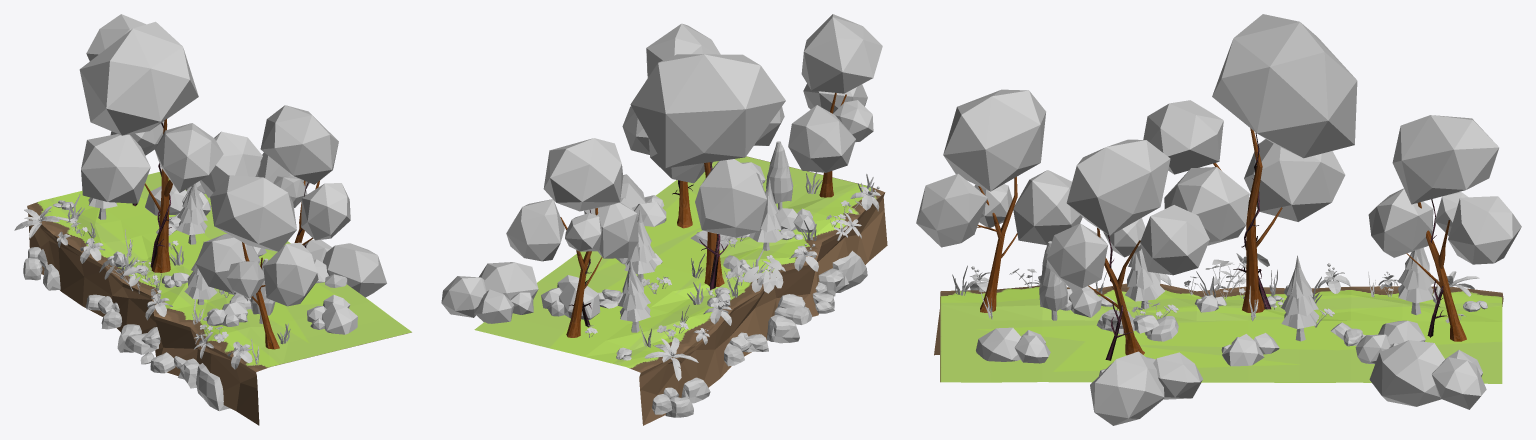
The model's file is LeftSide.FBX.
3 views of the same model, side by side, from view 1: azimuth 30°, elevation 25°; view 2: azimuth 150°, elevation 25°; view 3: azimuth 270°, elevation 25° (orthographic). The views are drawn at different scales.
Parts seen in each view (by area): view 1: G_01_01, Tree_Leave_01_02, Tree_Leave_01_03, Tree_Leave_01_04, G_Tree_Leave_01_09, Rock_01_22, Tree_Leave_01_05, G_Tree_Leave_01_07, Trees_01_01, Tree_S_06_03, G_Tree_Leave_01_10, Rock_01_25 (+12 smaller); view 2: G_01_01, Tree_Leave_01_02, Tree_Leave_01_05, Tree_Leave_01_03, G_Tree_Leave_01_11, Tree_Leave_01_04, Rock_01_22, G_Tree_Leave_01_10, G_Tree_Leave_01_09, Tree_S_06_05, Tree_S_06_06, Tree_S_06_03 (+14 smaller); view 3: G_01_01, Tree_Leave_01_02, Tree_Leave_01_03, Tree_Leave_01_05, Tree_Leave_01_04, G_Tree_Leave_01_11, G_Tree_Leave_01_09, G_Tree_Leave_01_07, Trees_01_01, Tree_S_06_03, G_Tree_Leave_01_10, Tree_S_06_05 (+8 smaller).
Part boxes in pixels (x1,y1,x2,y2): G_01_01: (27,172,411,425); Tree_Leave_01_02: (79,21,262,203); Tree_Leave_01_03: (195,175,318,306); Tree_Leave_01_04: (257,105,350,240); G_Tree_Leave_01_09: (303,240,386,297); Rock_01_22: (140,351,230,411); Tree_Leave_01_05: (86,14,167,155); G_Tree_Leave_01_07: (307,295,357,334); Trees_01_01: (144,119,172,272); Tree_S_06_03: (177,183,207,244); G_Tree_Leave_01_10: (145,184,210,215); Rock_01_25: (85,294,121,329); G_01_01: (474,156,887,425); Tree_Leave_01_02: (630,54,785,237); Tree_Leave_01_05: (506,138,638,261); Tree_Leave_01_03: (788,14,882,172); G_Tree_Leave_01_11: (441,262,538,323); Tree_Leave_01_04: (622,23,720,154); Rock_01_22: (812,250,867,313); G_Tree_Leave_01_10: (541,275,600,319); G_Tree_Leave_01_09: (620,174,666,226); Tree_S_06_05: (618,257,650,332); Tree_S_06_06: (766,141,793,209); Tree_S_06_03: (624,209,657,282); G_01_01: (934,283,1503,383); Tree_Leave_01_02: (1143,14,1357,245); Tree_Leave_01_03: (916,89,1082,247); Tree_Leave_01_05: (1368,115,1521,264); Tree_Leave_01_04: (1046,139,1209,291); G_Tree_Leave_01_11: (1369,340,1486,409); G_Tree_Leave_01_09: (1090,351,1203,425); G_Tree_Leave_01_07: (976,327,1050,363); Trees_01_01: (1213,128,1282,312); Tree_S_06_03: (1281,255,1319,341); G_Tree_Leave_01_10: (1355,320,1425,364); Tree_S_06_05: (1397,247,1434,315).
Bounding box in the file's own units: 202 × 237 × 367.
